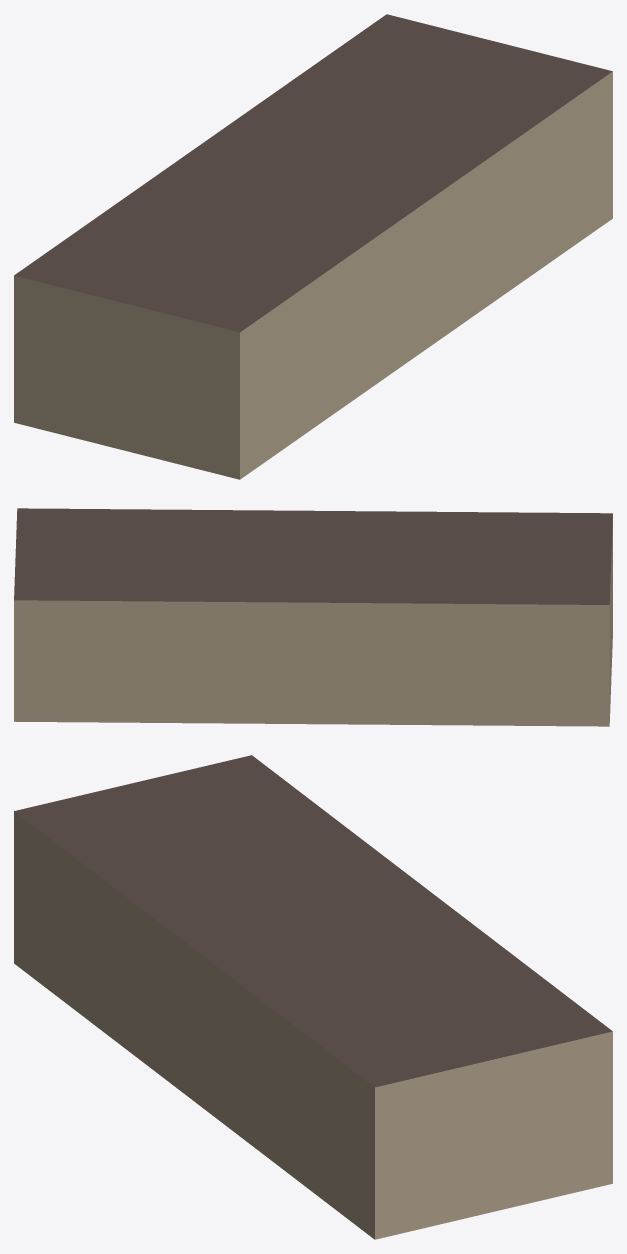
The picture shows the model from 3 angles, top to bottom: view 1: azimuth 30°, elevation 25°; view 2: azimuth 150°, elevation 25°; view 3: azimuth 270°, elevation 25°; orthographic projection. The views are drawn at different scales.
Parts seen in each view (by area): view 1: HP-w859447942; view 2: HP-w859447942; view 3: HP-w859447942.
Part boxes in pixels (x1,y1,x2,y2): HP-w859447942: (14, 14, 612, 479); HP-w859447942: (14, 508, 612, 726); HP-w859447942: (14, 755, 612, 1239).
Bounding box in the file's own units: 42.12 × 9 × 32.08.
